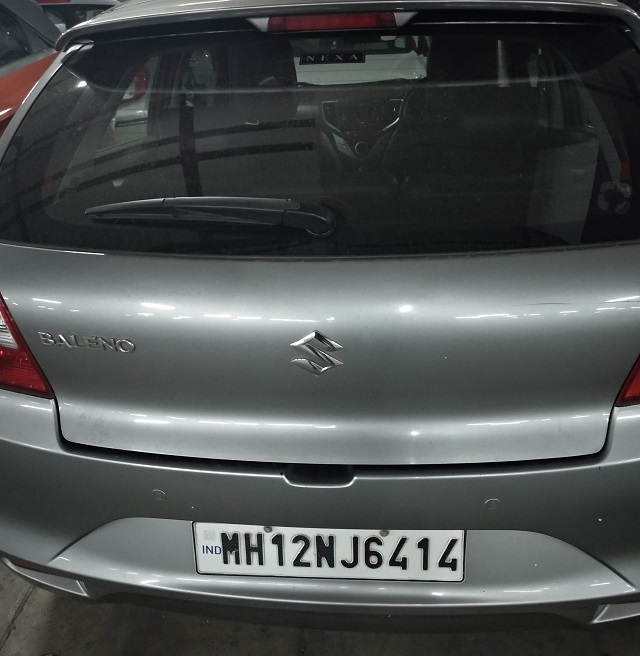licenseplate: (189, 520, 473, 587)
